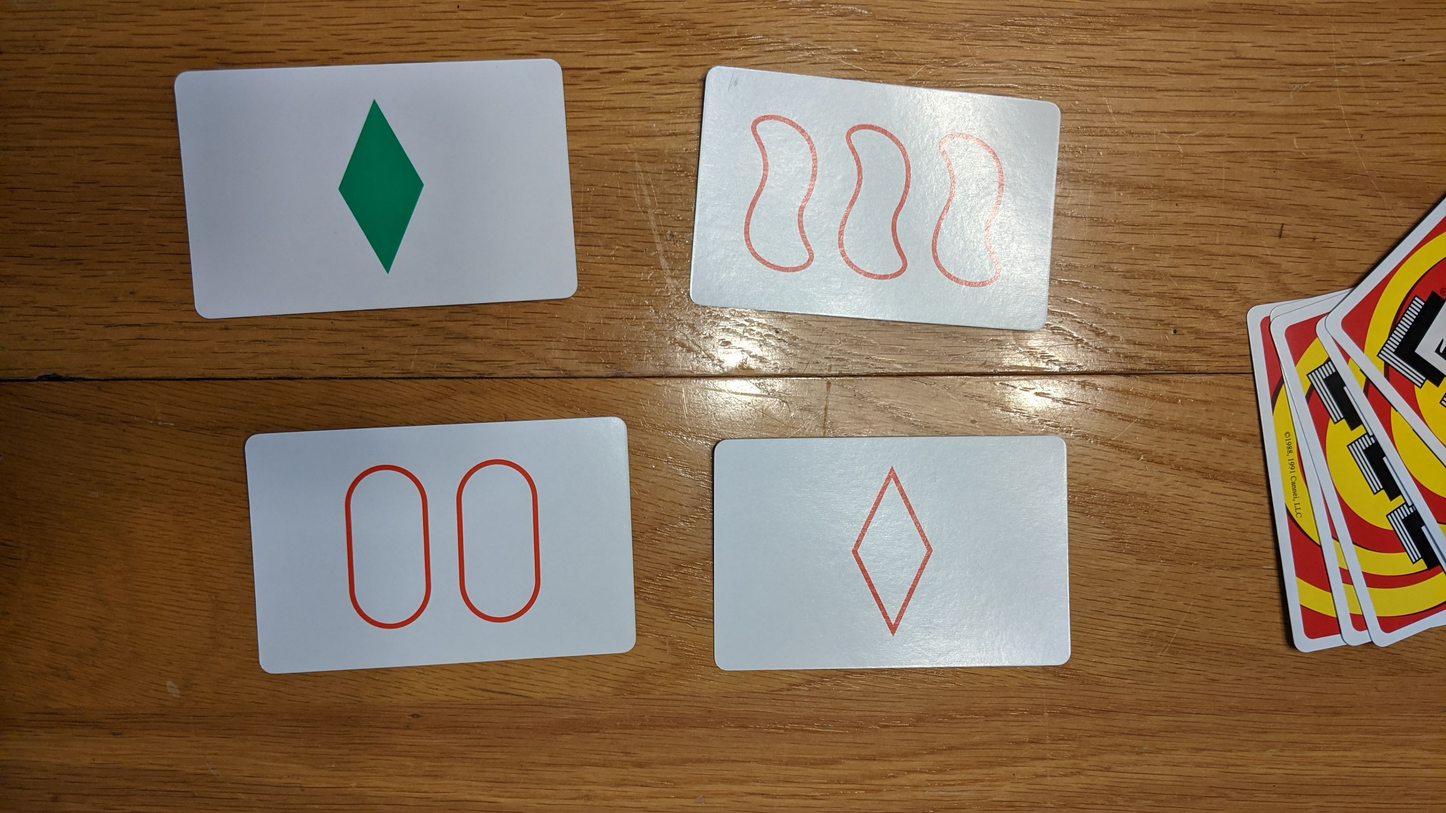card: (174, 59, 579, 317), (244, 417, 640, 672), (688, 65, 1060, 333), (714, 437, 1071, 668)
